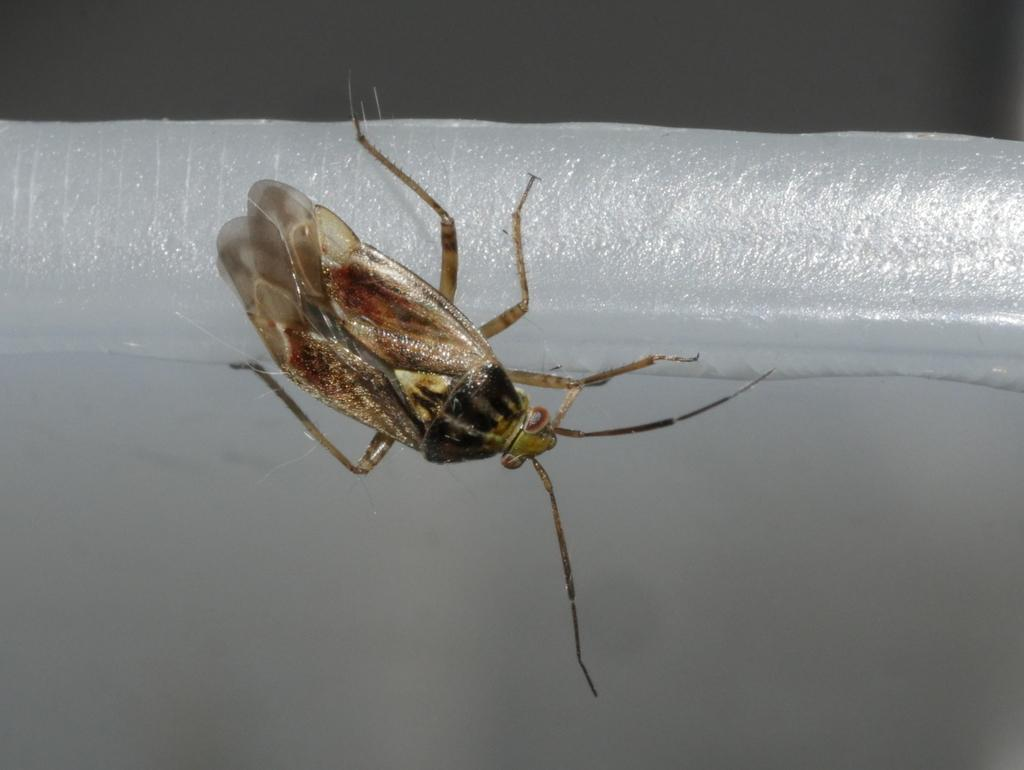plant_bugs: (156, 72, 775, 750)
